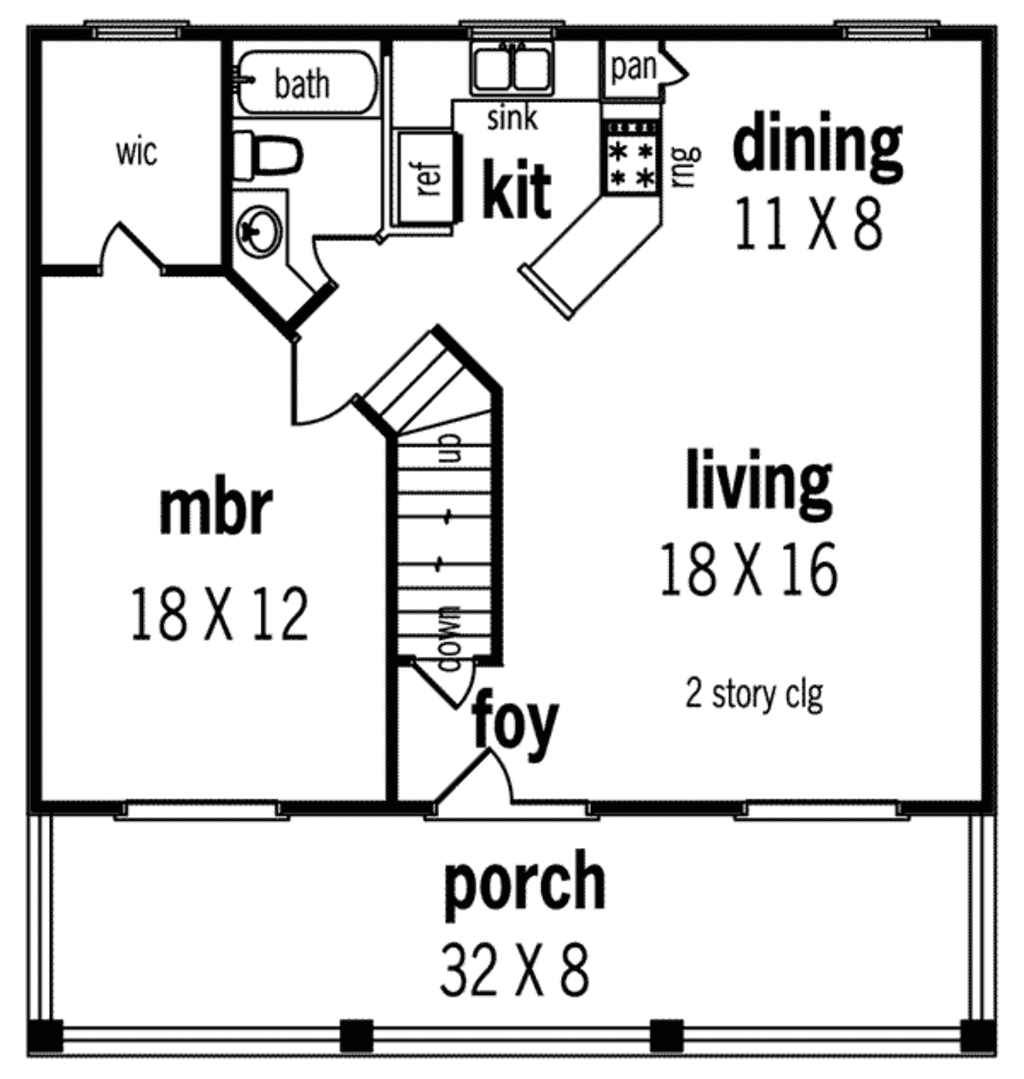door: (278, 334, 355, 425), (432, 749, 515, 809), (98, 219, 165, 280)
large_sink: (232, 125, 309, 185)
small_sink: (228, 188, 289, 272)
stairs: (355, 320, 515, 666)
tub: (231, 37, 380, 122)
twin_sink: (465, 45, 558, 96)
windows: (735, 799, 911, 828), (113, 796, 286, 823), (79, 15, 200, 45), (832, 19, 946, 48)
